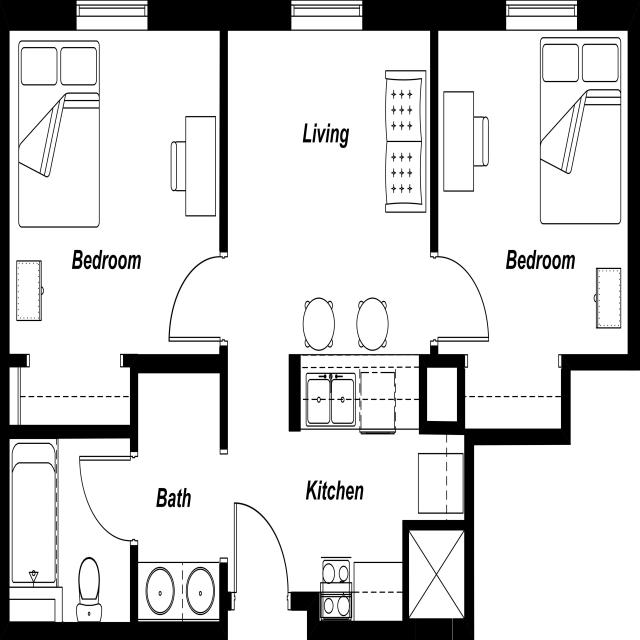Door: (230, 500, 292, 610), (76, 453, 140, 548), (429, 250, 491, 348), (167, 252, 230, 345)
OuterWall: (5, 13, 635, 631)
Wall: (294, 355, 295, 431), (406, 525, 469, 526), (423, 428, 461, 429), (5, 432, 134, 432), (5, 360, 224, 360), (224, 345, 224, 450), (434, 13, 434, 251)
window: (291, 0, 364, 33), (75, 0, 148, 31), (505, 0, 578, 31)
